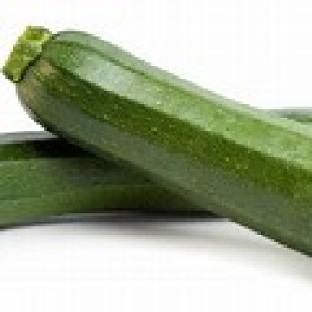Zucchini: (6, 29, 311, 254), (0, 133, 213, 226)
